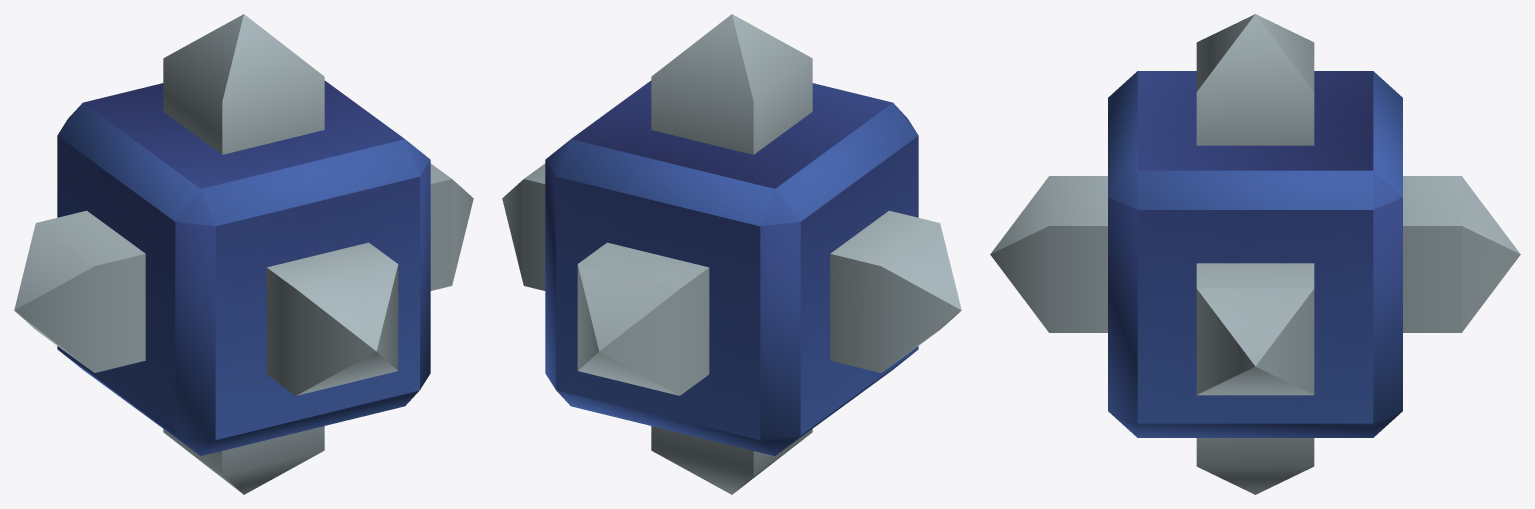
Rendered from spikeBlock.glb.
3 views of the same model, side by side, from view 1: azimuth 30°, elevation 25°; view 2: azimuth 150°, elevation 25°; view 3: azimuth 270°, elevation 25° (orthographic).
Parts seen in each view (by area): view 1: spikeBlock; view 2: spikeBlock; view 3: spikeBlock.
Part boxes in pixels (bbox=[...]): spikeBlock: bbox=[14, 14, 473, 494]; spikeBlock: bbox=[502, 14, 961, 494]; spikeBlock: bbox=[990, 14, 1520, 494].
Bounding box in the file's own units: 0.9 × 0.9 × 0.9.
1 material, 1 textured.
